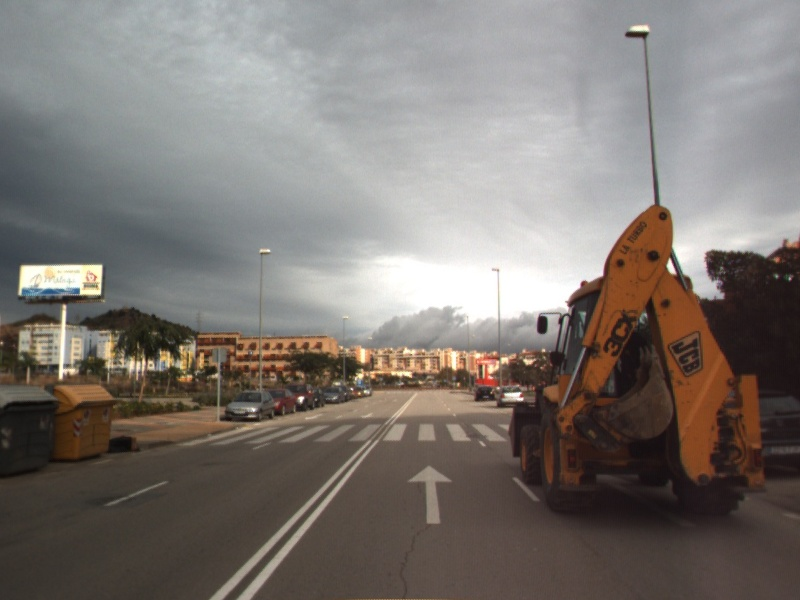STRAIGHT: (594, 473, 699, 529), (405, 462, 455, 526)
